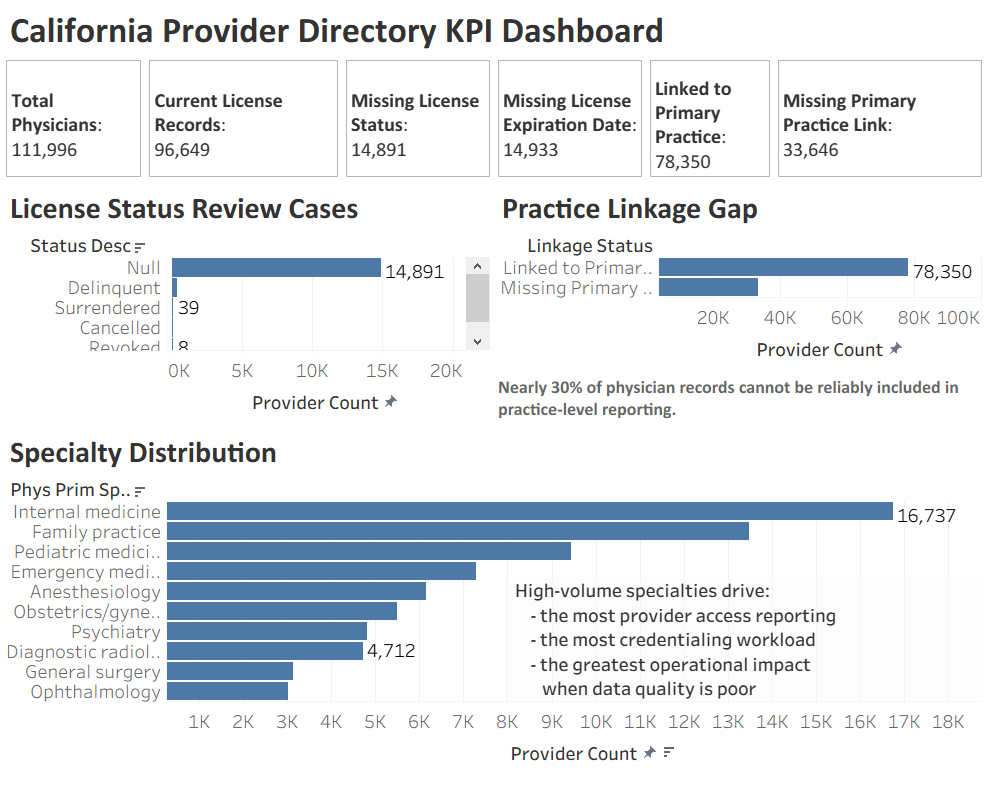

The dashboard page shown, as its layout file describes it:
{"tool":"tableau","page":{"name":"California Provider Directory KPI Dashboard","canvas":[1000,800],"ordinal":0},"visuals":[{"type":"title","box":[8,8,984,52]},{"type":"worksheet","title":"KPI - Total Physicians","mark":"Automatic","box":[8,60,143,125]},{"type":"worksheet","title":"KPI - Current License Records","mark":"Automatic","box":[151,60,197,125]},{"type":"worksheet","title":"KPI - Missing License Status","mark":"Automatic","box":[348,60,152,125]},{"type":"worksheet","title":"KPI - Missing Expiration Dates","mark":"Automatic","box":[500,60,152,125]},{"type":"worksheet","title":"KPI - Linked to Practice","mark":"Automatic","box":[652,60,128,125]},{"type":"worksheet","title":"KPI - Missing Practice Link","mark":"Automatic","box":[780,60,212,125]},{"type":"worksheet","title":"License Status Summary","mark":"Automatic","rows":["STATUS_DESC"],"cols":["provider_count"],"box":[8,185,492,244]},{"type":"worksheet","title":"Practice Linkage Summary","mark":"Automatic","rows":["linkage_status"],"cols":["provider_count"],"box":[500,185,492,244]},{"type":"worksheet","title":"Top Specialty Distribution","mark":"Automatic","rows":["PHYS_PRIM_SPC_DESC"],"cols":["provider_count"],"box":[8,429,984,363]}]}

Visuals, with their boxes in screenshot pixels (x1, y1, x2, y2), scaled from the page's 1000x800 canvas onto the 991x794 screenshot:
title: <region>8, 8, 983, 60</region>
"KPI - Total Physicians" worksheet: <region>8, 60, 150, 184</region>
"KPI - Current License Records" worksheet: <region>150, 60, 345, 184</region>
"KPI - Missing License Status" worksheet: <region>345, 60, 496, 184</region>
"KPI - Missing Expiration Dates" worksheet: <region>496, 60, 646, 184</region>
"KPI - Linked to Practice" worksheet: <region>646, 60, 773, 184</region>
"KPI - Missing Practice Link" worksheet: <region>773, 60, 983, 184</region>
"License Status Summary" worksheet: <region>8, 184, 496, 426</region>
"Practice Linkage Summary" worksheet: <region>496, 184, 983, 426</region>
"Top Specialty Distribution" worksheet: <region>8, 426, 983, 786</region>
